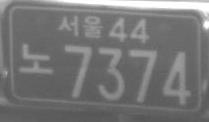3: (96, 44, 126, 102)
4: (161, 50, 192, 106), (128, 16, 151, 45), (107, 16, 128, 43)
7: (127, 47, 158, 105), (62, 42, 94, 98)
노: (17, 42, 54, 77)
서울_O: (56, 13, 103, 39)
